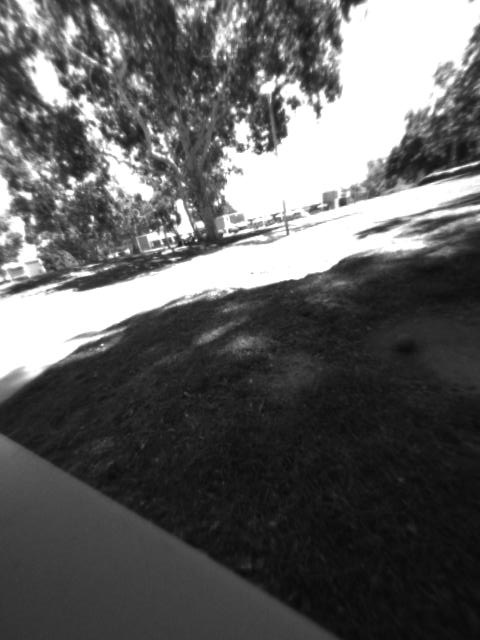dogtoy: (388, 324, 429, 359)
